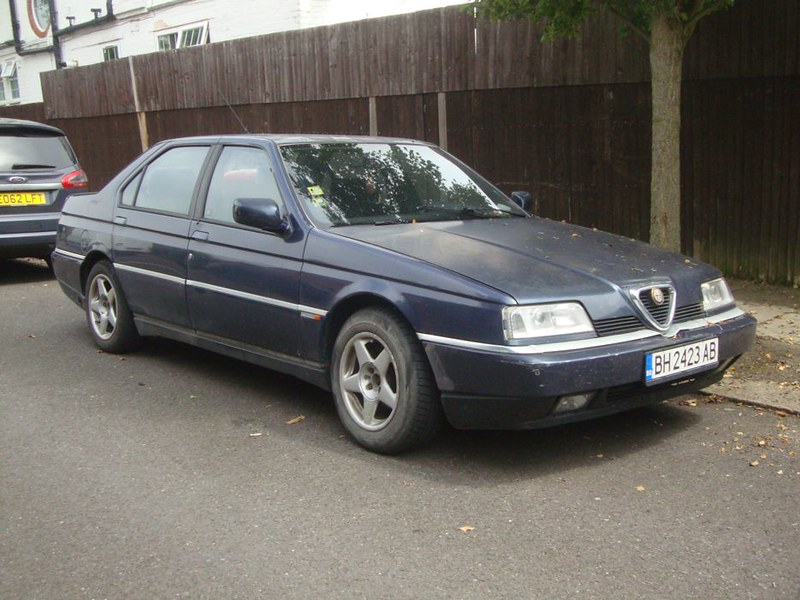number_plate: (617, 335, 743, 383)
